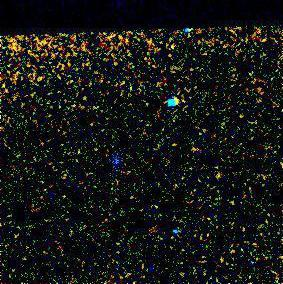star: (205, 160, 235, 190)
